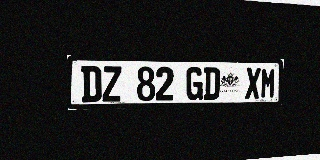2: (156, 67, 174, 101)
8: (137, 66, 155, 101)
D: (81, 66, 102, 102), (203, 67, 220, 100)
G: (186, 67, 203, 100)
M: (260, 68, 276, 99)
X: (245, 68, 261, 99)
Z: (102, 66, 122, 102)
